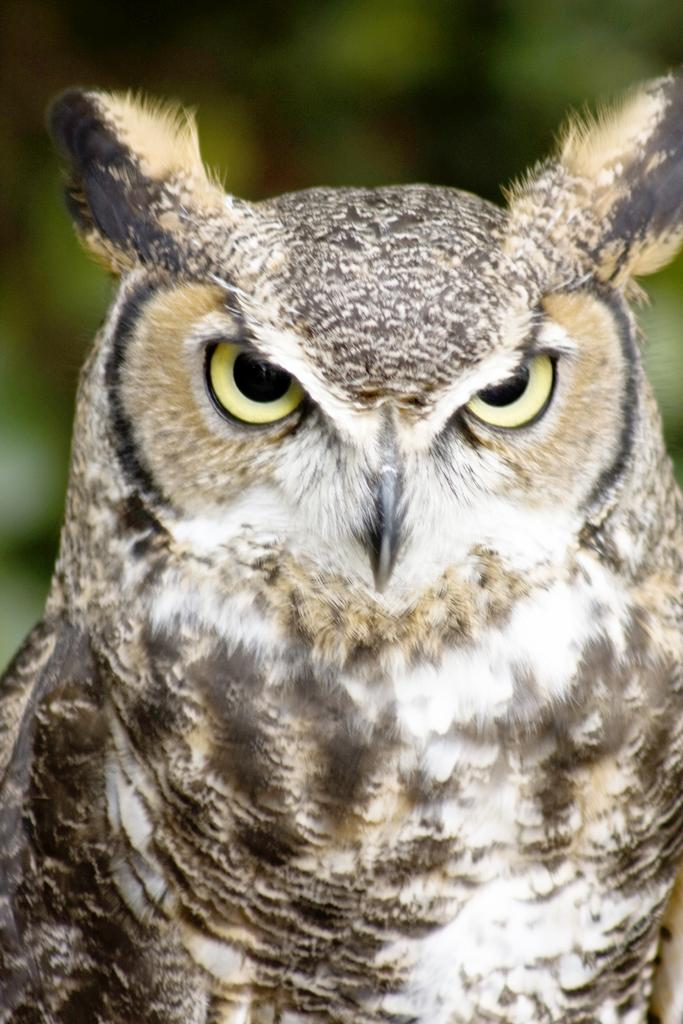Owl: (80, 76, 660, 988)
